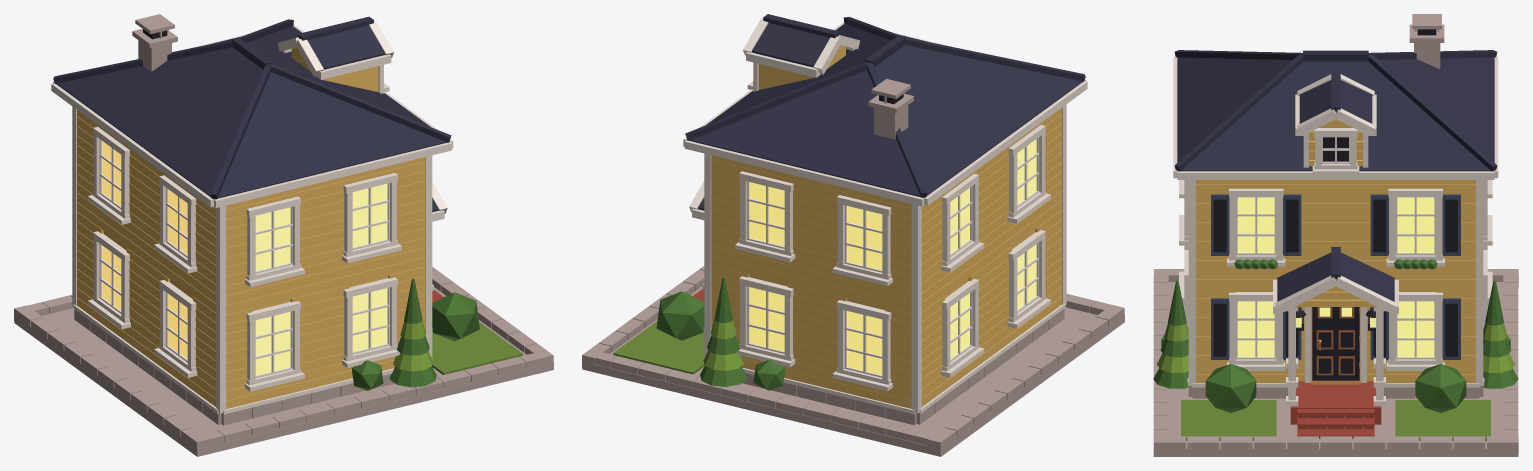
File: model.distance1.glb
3 renders of one model, left to right at view 1: azimuth 30°, elevation 25°; view 2: azimuth 150°, elevation 25°; view 3: azimuth 270°, elevation 25°, orthographic.
Visible parts, largest first — view 1: roof_pal_navy.001, body_pal_mustardLight.001, dressing_pal_sidewalk.001, roof_pal_picketWhite.001, body_pal_picketWhite.001, dressing_pal_foliageDark.001, body_pal_sidewalk.001, window_side-1_1.875_-1.35_pal_picketWhite, window_side-1_4.395_1.1_pal_picketWhite, window_side-1_4.395_-1.35_pal_picketWhite, window_side-1_1.875_1.1_pal_picketWhite, dressing_pal_grass.001 (+15 smaller); view 2: body_pal_mustardLight.001, roof_pal_navy.001, dressing_pal_sidewalk.001, roof_pal_picketWhite.001, body_pal_picketWhite.001, dressing_pal_foliageDark.001, body_pal_sidewalk.001, window_side1_1.875_-1.35_pal_picketWhite, window_side1_4.395_-1.35_pal_picketWhite, window_side1_4.395_1.1_pal_picketWhite, window_side1_1.875_1.1_pal_picketWhite, dressing_pal_grass.001 (+15 smaller); view 3: roof_pal_navy.001, body_pal_mustardLight.001, dressing_pal_sidewalk.001, roof_pal_picketWhite.001, dressing_pal_foliageDark.001, body_pal_picketWhite.001, dressing_pal_grass.001, body_pal_brick.001, door_front_pal_uiDark.001, window_front_4.395_1.75_pal_picketWhite, window_front_4.395_-1.75_pal_picketWhite, window_front_1.875_1.75_pal_picketWhite (+22 smaller).
Boxes of the visible parts, bbox=[...] form: roof_pal_navy.001: bbox=[53, 16, 451, 212]; body_pal_mustardLight.001: bbox=[76, 110, 425, 408]; dressing_pal_sidewalk.001: bbox=[14, 267, 553, 456]; roof_pal_picketWhite.001: bbox=[51, 19, 453, 221]; body_pal_picketWhite.001: bbox=[72, 106, 433, 414]; dressing_pal_foliageDark.001: bbox=[351, 278, 479, 390]; body_pal_sidewalk.001: bbox=[74, 309, 394, 425]; window_side-1_1.875_-1.35_pal_picketWhite: bbox=[245, 301, 304, 391]; window_side-1_4.395_1.1_pal_picketWhite: bbox=[342, 173, 401, 263]; window_side-1_4.395_-1.35_pal_picketWhite: bbox=[245, 196, 304, 287]; window_side-1_1.875_1.1_pal_picketWhite: bbox=[342, 277, 399, 367]; dressing_pal_grass.001: bbox=[432, 322, 522, 374]; body_pal_mustardLight.001: bbox=[711, 108, 1061, 408]; roof_pal_navy.001: bbox=[685, 14, 1085, 210]; dressing_pal_sidewalk.001: bbox=[582, 266, 1124, 456]; roof_pal_picketWhite.001: bbox=[683, 16, 1087, 220]; body_pal_picketWhite.001: bbox=[702, 104, 1066, 414]; dressing_pal_foliageDark.001: bbox=[656, 277, 785, 390]; body_pal_sidewalk.001: bbox=[742, 308, 1064, 425]; window_side1_1.875_-1.35_pal_picketWhite: bbox=[832, 300, 892, 391]; window_side1_4.395_-1.35_pal_picketWhite: bbox=[832, 195, 892, 286]; window_side1_4.395_1.1_pal_picketWhite: bbox=[735, 171, 795, 262]; window_side1_1.875_1.1_pal_picketWhite: bbox=[737, 276, 795, 367]; dressing_pal_grass.001: bbox=[613, 321, 704, 374]; roof_pal_navy.001: bbox=[1174, 50, 1497, 301]; body_pal_mustardLight.001: bbox=[1196, 180, 1475, 383]; dressing_pal_sidewalk.001: bbox=[1153, 269, 1518, 456]; roof_pal_picketWhite.001: bbox=[1173, 56, 1498, 313]; dressing_pal_foliageDark.001: bbox=[1153, 259, 1518, 412]; body_pal_picketWhite.001: bbox=[1187, 180, 1484, 406]; dressing_pal_grass.001: bbox=[1181, 400, 1490, 440]; body_pal_brick.001: bbox=[1290, 381, 1381, 438]; door_front_pal_uiDark.001: bbox=[1312, 307, 1359, 380]; window_front_4.395_1.75_pal_picketWhite: bbox=[1386, 188, 1444, 266]; window_front_4.395_-1.75_pal_picketWhite: bbox=[1227, 188, 1285, 266]; window_front_1.875_1.75_pal_picketWhite: bbox=[1386, 292, 1444, 370].
Size of the model in its own units: 9 by 7.5 by 8.02.
